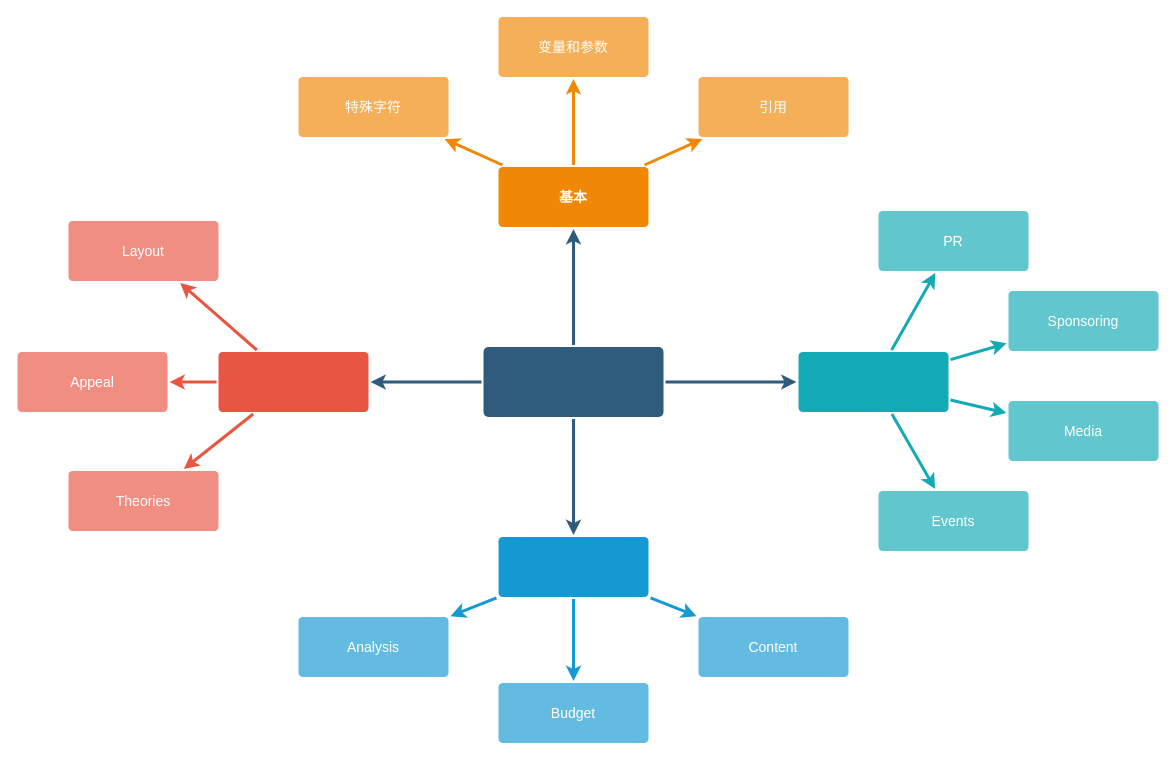
Image size: 1175x760. Some labels were removed from this diagram. Here are the shapes that lost their labels. From the top down, the centre of each, then its label:
the point at 293,382: Embassy
the point at 573,381: Shell Script -- Bash
the point at 873,382: Communication
the point at 573,566: Organization
